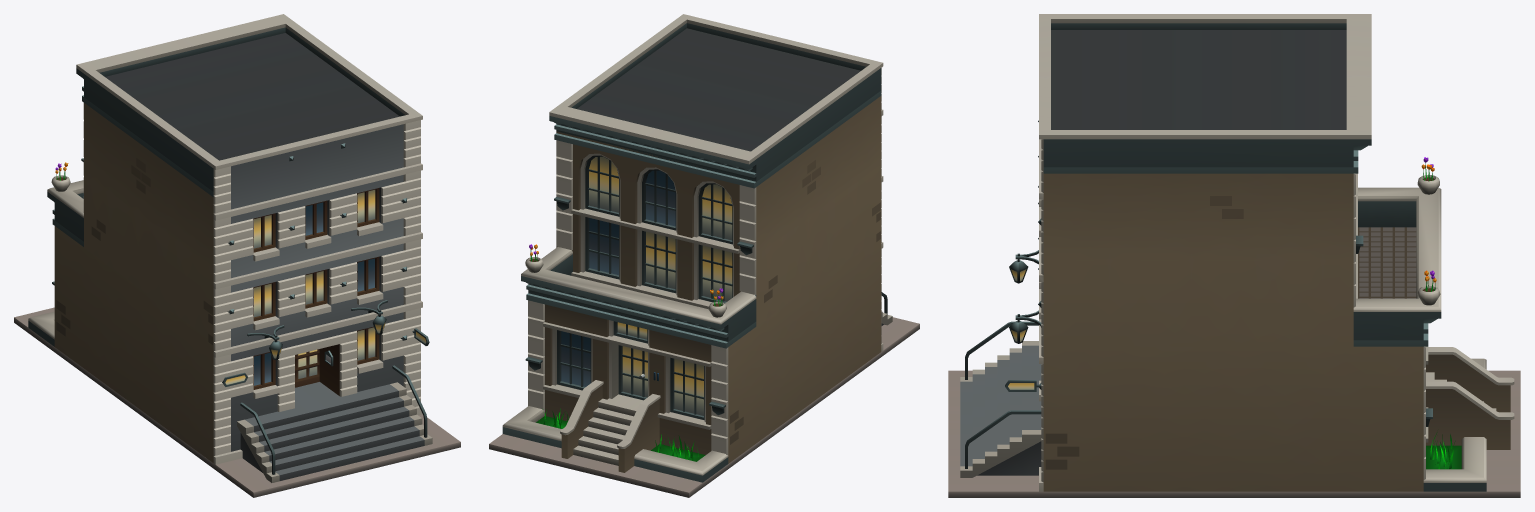
The model's file is Brownstone_2A.fbx.
3 views of the same model, side by side, from view 1: azimuth 30°, elevation 25°; view 2: azimuth 150°, elevation 25°; view 3: azimuth 270°, elevation 25° (orthographic). The views are drawn at different scales.
Parts seen in each view (by area): view 1: Brownstone_2A, Brownstone_2A_Window_Lights; view 2: Brownstone_2A, Brownstone_2A_Window_Lights; view 3: Brownstone_2A.
Boxes of the visible parts, box(x1,y1,x2,y2) form: Brownstone_2A: box(14, 14, 460, 497); Brownstone_2A_Window_Lights: box(254, 189, 375, 378); Brownstone_2A: box(489, 14, 919, 497); Brownstone_2A_Window_Lights: box(589, 156, 732, 415); Brownstone_2A: box(948, 14, 1520, 497).
Bounding box in the file's own units: 12.01 × 16.8 × 24.
